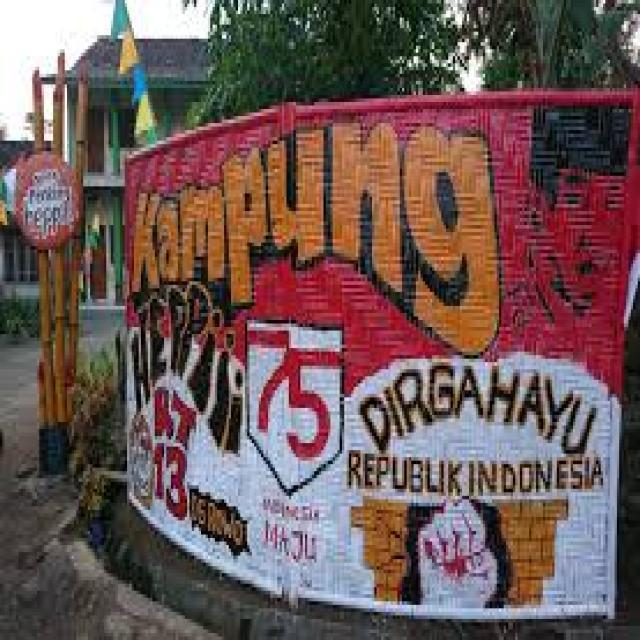-: (121, 94, 626, 615), (24, 158, 68, 244)
